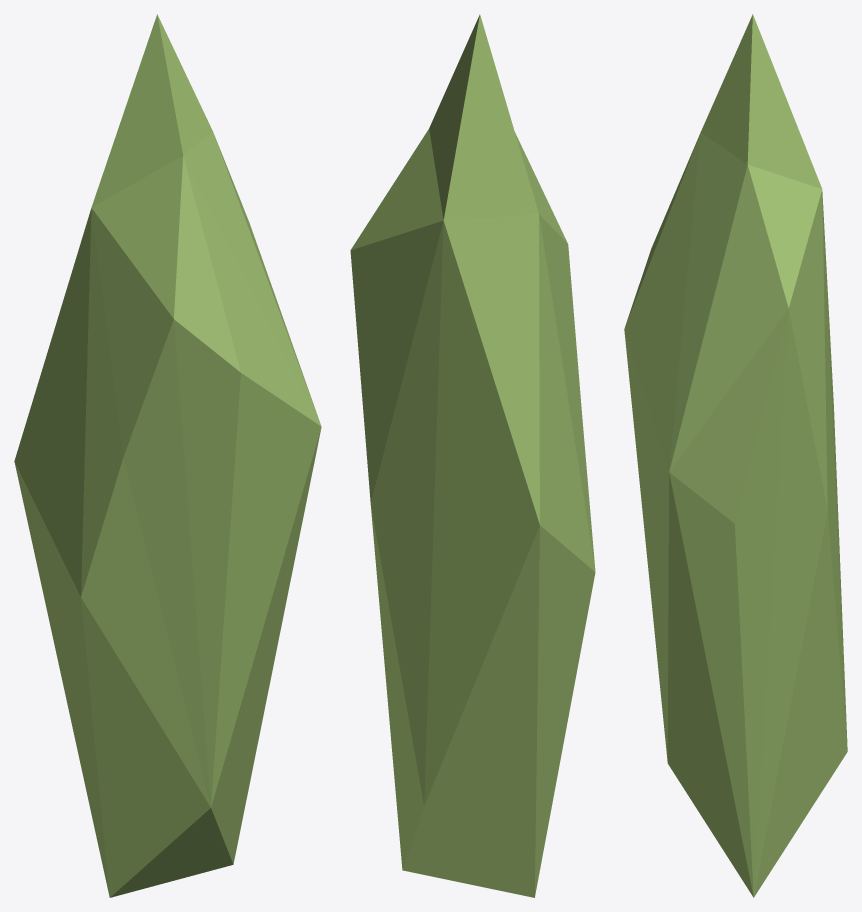
The model's file is Bush_1.fbx.
3 views of the same model, side by side, from view 1: azimuth 30°, elevation 25°; view 2: azimuth 150°, elevation 25°; view 3: azimuth 270°, elevation 25° (orthographic). The views are drawn at different scales.
Parts seen in each view (by area): view 1: Bush_1; view 2: Bush_1; view 3: Bush_1.
Part boxes in pixels (x1,y1,x2,y2): Bush_1: (14, 14, 321, 897); Bush_1: (350, 14, 595, 897); Bush_1: (624, 14, 847, 897).
Size of the model in its own units: 40.88 by 153 by 36.46.
1 material, 1 textured.
